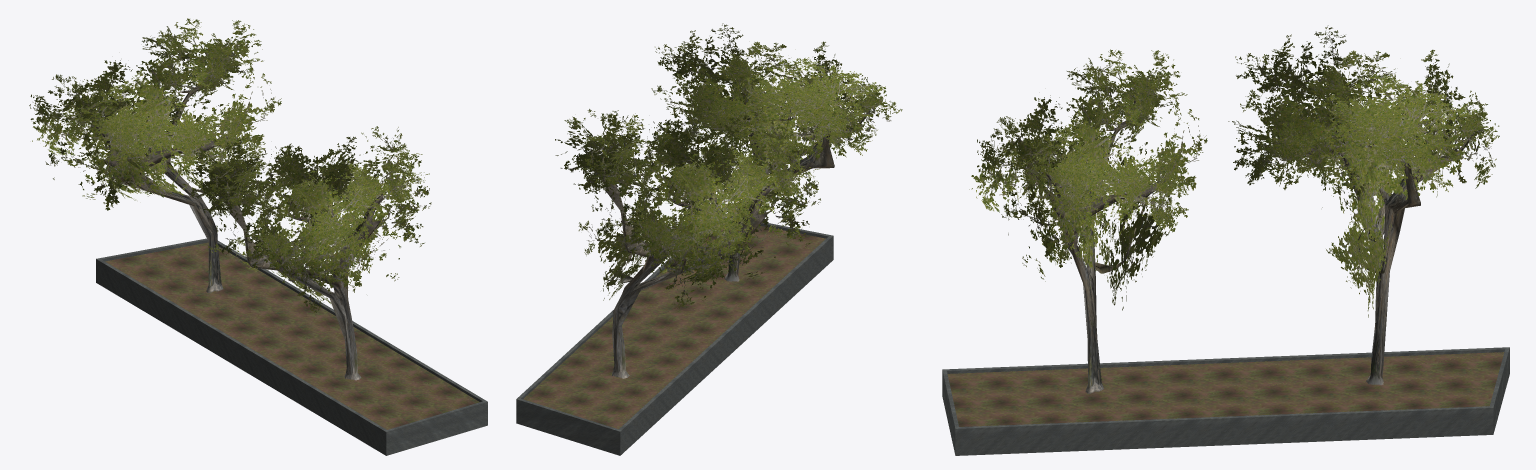
The picture shows the model from 3 angles, left to right: view 1: azimuth 30°, elevation 25°; view 2: azimuth 150°, elevation 25°; view 3: azimuth 270°, elevation 25°; orthographic projection. The views are drawn at different scales.
Parts seen in each view (by area): view 1: Island tree branch clusters, Fullerton planted soil, Dark planter edging, Island tree bark; view 2: Island tree branch clusters, Fullerton planted soil, Dark planter edging, Island tree bark; view 3: Island tree branch clusters, Fullerton planted soil, Dark planter edging, Island tree bark.
Boxes of the visible parts, x1,y1,x2,y2 form: Island tree branch clusters: (29,18,431,312); Fullerton planted soil: (105,242,479,429); Dark planter edging: (96,238,487,455); Island tree bark: (90,84,383,380); Island tree branch clusters: (555,23,902,308); Fullerton planted soil: (523,223,825,429); Dark planter edging: (516,217,833,455); Island tree bark: (600,78,869,378); Island tree branch clusters: (969,25,1499,317); Fullerton planted soil: (947,352,1504,426); Dark planter edging: (942,347,1509,455); Island tree bark: (1018,74,1474,393).
Size of the model in its own units: 7.96 by 7.81 by 12.7.
Materials: 4 (4 with a texture image).
